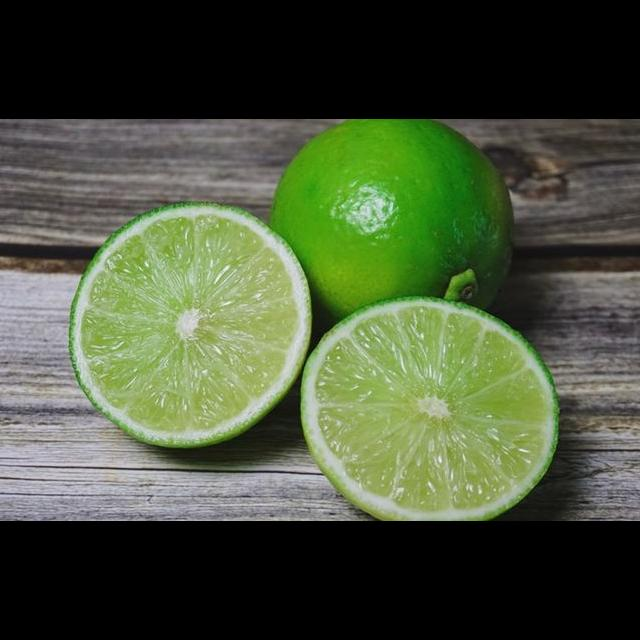lime: (58, 198, 322, 461), (289, 292, 568, 521), (262, 119, 523, 315)
